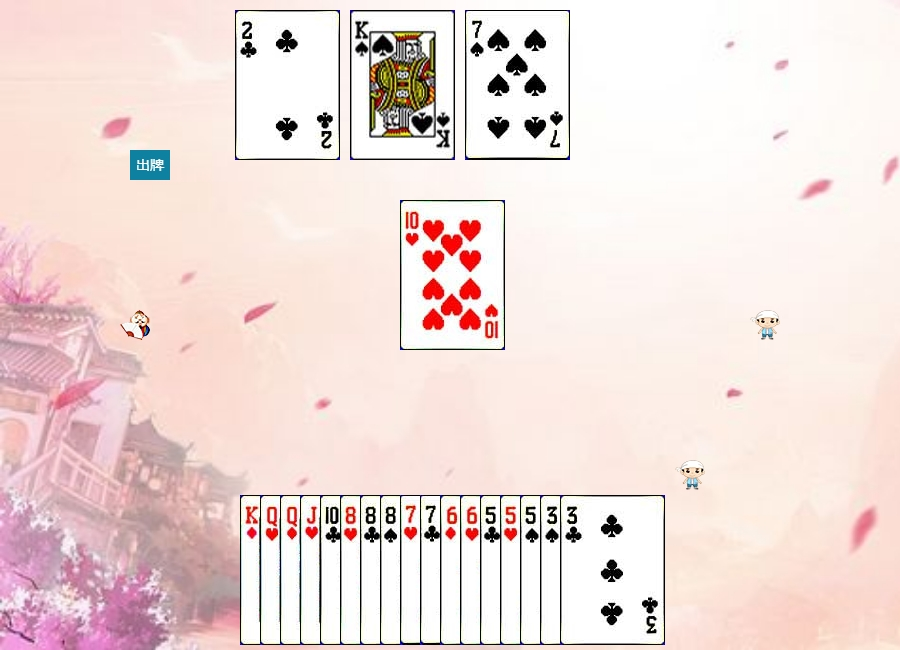10~2: (320, 495, 425, 645)
10~3: (400, 200, 505, 350)
11~3: (300, 495, 405, 645)
12~1: (280, 495, 385, 645)
12~3: (260, 495, 365, 645)
13~1: (240, 495, 345, 645)
13~4: (350, 10, 455, 160)
15~2: (235, 10, 340, 160)
3~2: (560, 495, 665, 645)
3~4: (540, 495, 645, 645)
5~2: (480, 495, 585, 645)
5~3: (500, 495, 605, 645)
5~4: (520, 495, 625, 645)
6~1: (440, 495, 545, 645)
6~3: (460, 495, 565, 645)
7~2: (420, 495, 525, 645)
7~3: (400, 495, 505, 645)
7~4: (465, 10, 570, 160)
8~2: (360, 495, 465, 645)
8~3: (340, 495, 445, 645)
8~4: (380, 495, 485, 645)
